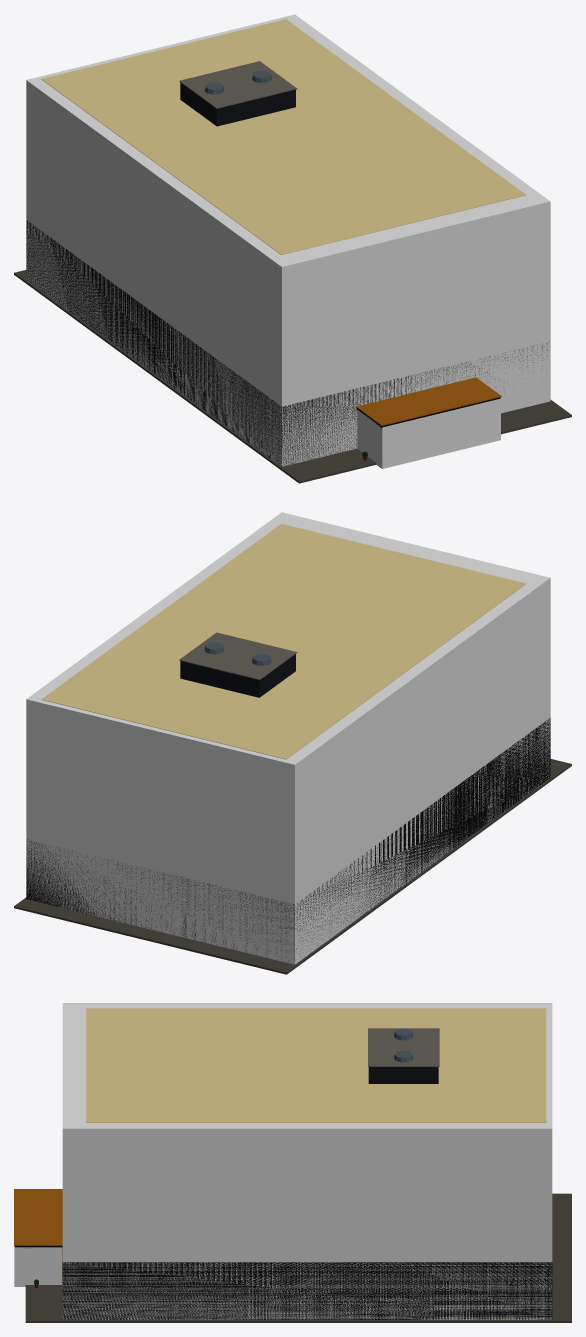
File: B48_business_hotel.glb
3 renders of one model, top to bottom at view 1: azimuth 30°, elevation 25°; view 2: azimuth 150°, elevation 25°; view 3: azimuth 270°, elevation 25°, orthographic. The views are drawn at different scales.
Parts seen in each view (by area): view 1: COL_Main, LOD0, COL_Verandah; view 2: COL_Main, LOD0; view 3: COL_Main, LOD0, COL_Verandah.
Part boxes in pixels (left/top/right/bottom): COL_Main: left=26, top=14, right=550, bottom=466; LOD0: left=14, top=19, right=571, bottom=483; COL_Verandah: left=357, top=398, right=500, bottom=468; COL_Main: left=26, top=512, right=550, bottom=964; LOD0: left=14, top=524, right=571, bottom=974; COL_Main: left=62, top=1003, right=552, bottom=1319; LOD0: left=14, top=1008, right=571, bottom=1322; COL_Verandah: left=14, top=1246, right=62, bottom=1286.
Size of what is drawn, in the model's own units: 34.5 by 27.25 by 63.83.
